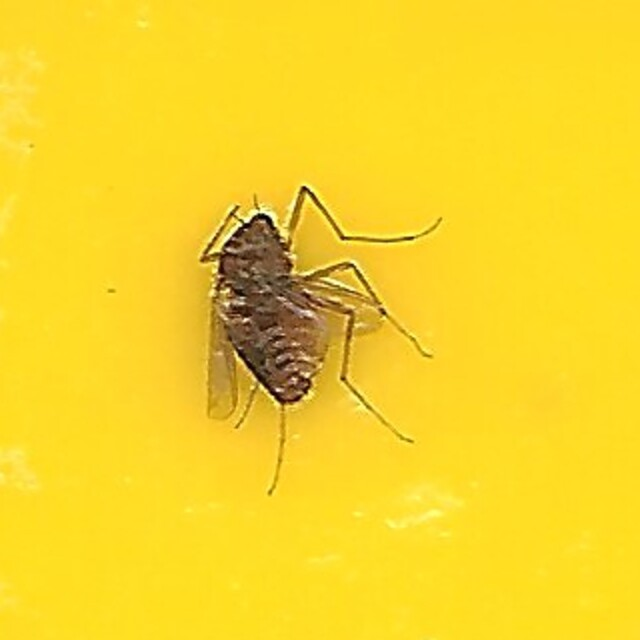Nematocera: (200, 194, 440, 446)
